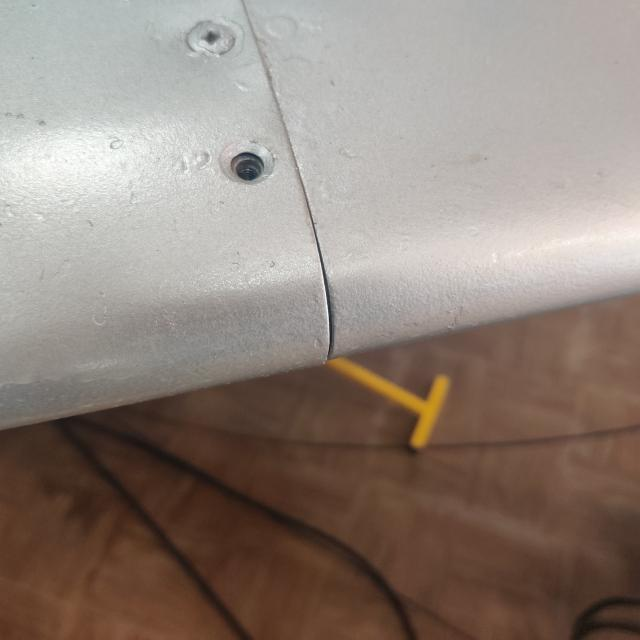missing-head: (186, 107, 316, 230)
